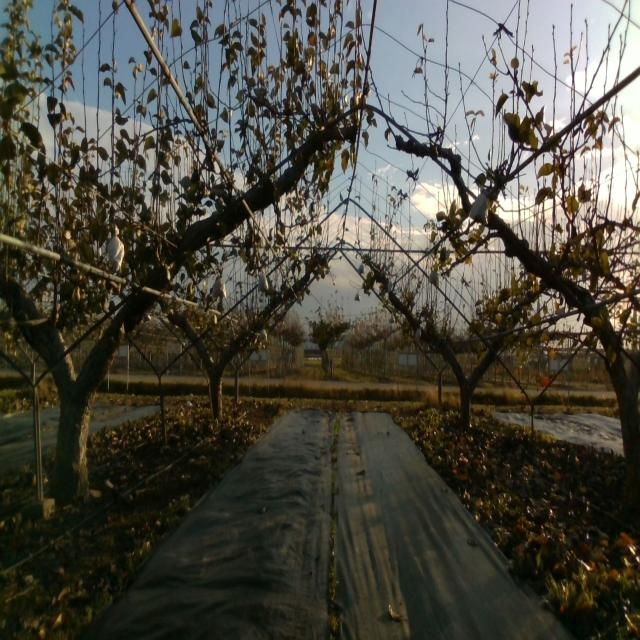pearbags: (107, 223, 125, 273), (468, 190, 490, 228), (212, 274, 226, 300), (257, 270, 270, 292)
